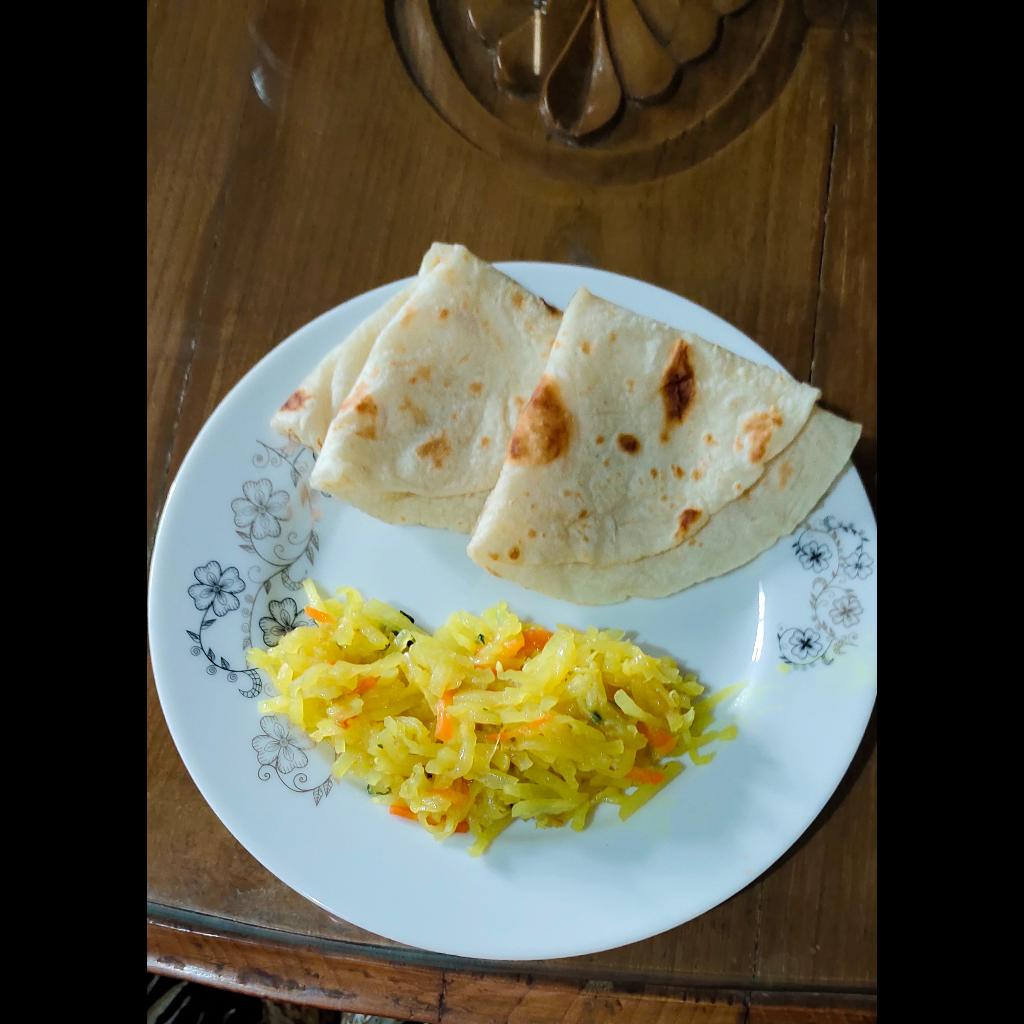ruti: (268, 236, 869, 610)
vaji: (245, 547, 722, 855)
